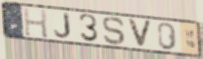0: (157, 22, 177, 51)
3: (77, 13, 100, 44)
H: (22, 6, 49, 40)
J: (53, 12, 72, 39)
S: (101, 16, 128, 47)
V: (126, 17, 153, 49)
